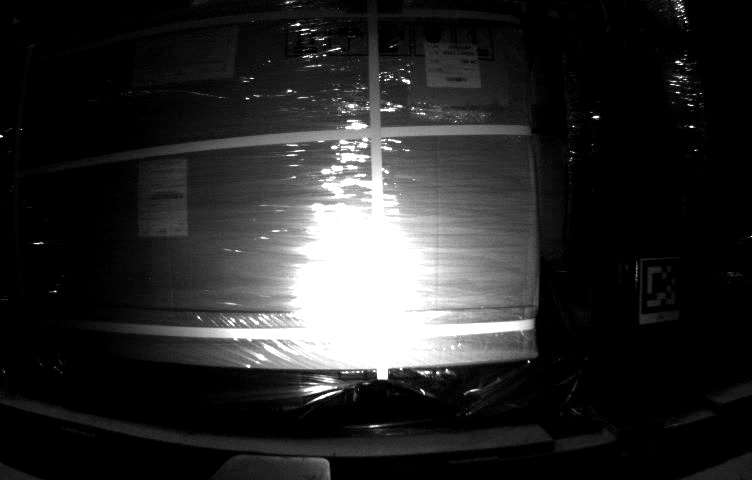True Barcode: (425, 43, 481, 88)
